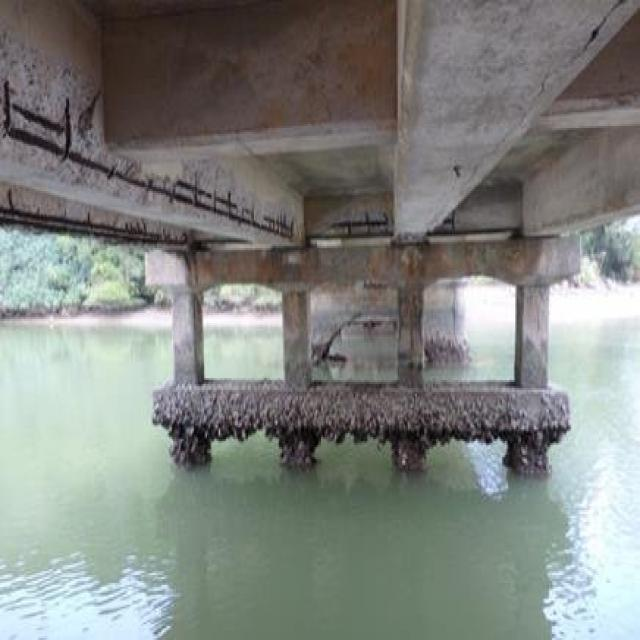Spalling: (0, 30, 307, 246)
corrosion: (8, 128, 292, 239), (1, 207, 160, 240)
